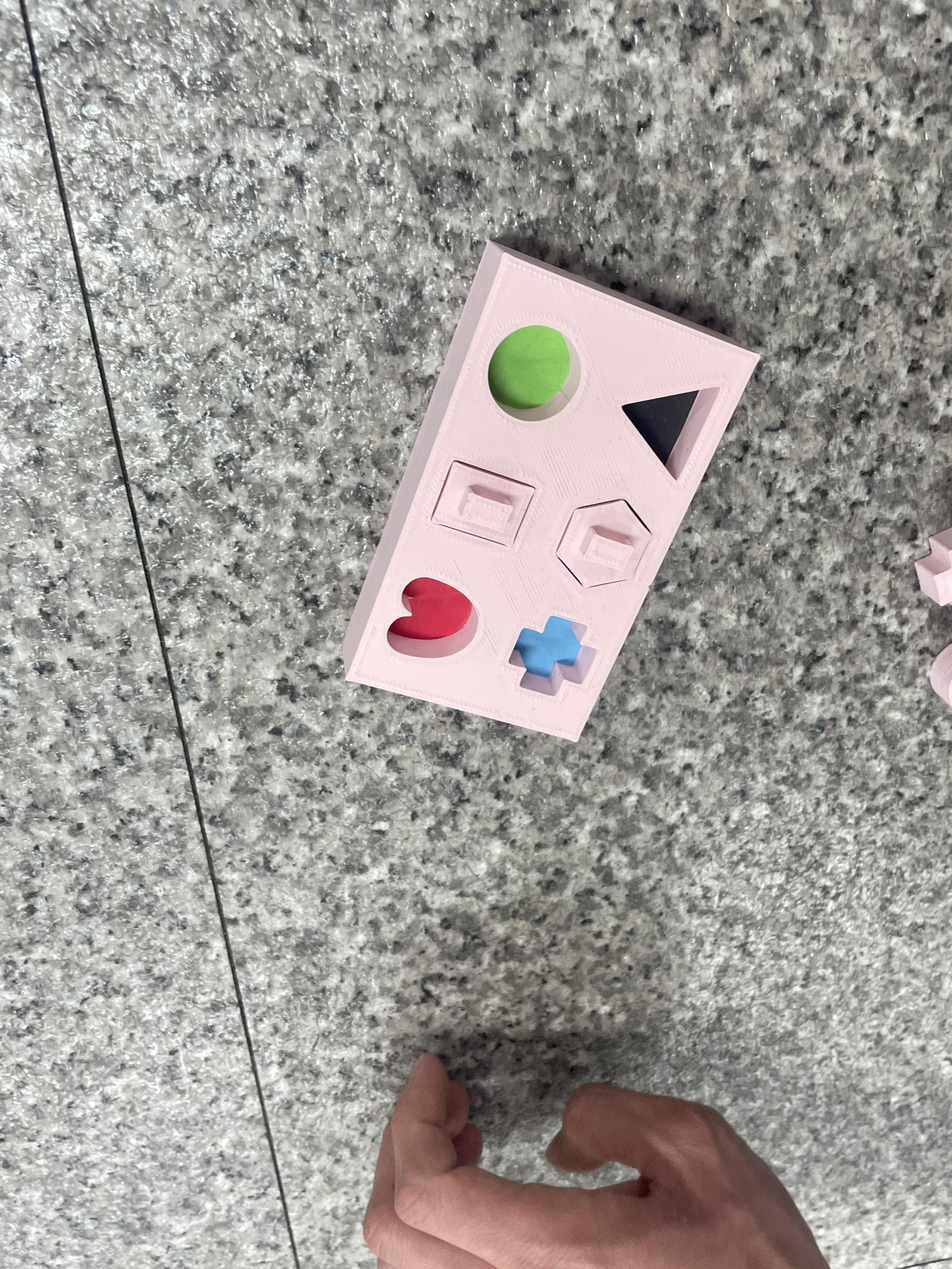unsolved: (321, 218, 773, 772)
